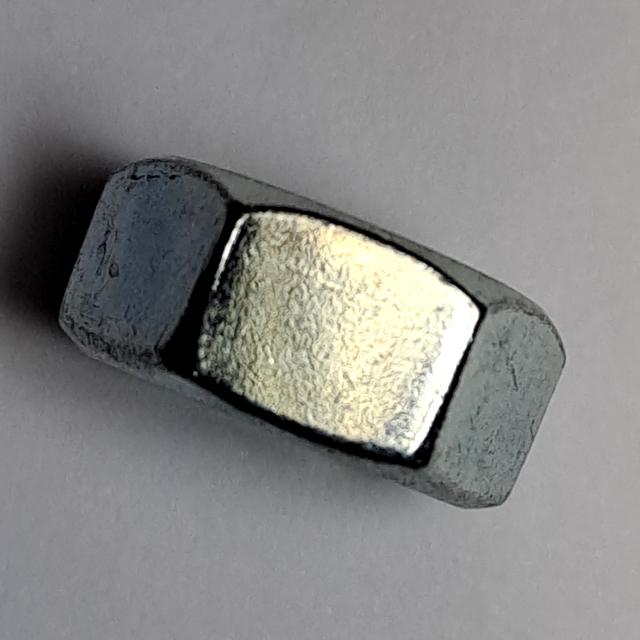Side_Excellent: (53, 145, 572, 524)
